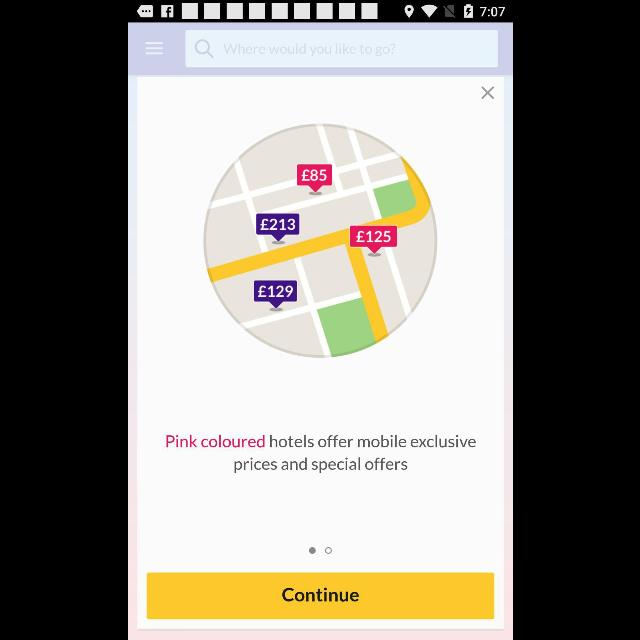icon: (481, 86, 494, 100)
image: (202, 124, 438, 358)
pageindicator: (308, 548, 332, 554)
text: (165, 434, 475, 474)
textbutton: (146, 572, 494, 620)
uppertaskbar: (128, 1, 512, 23)
